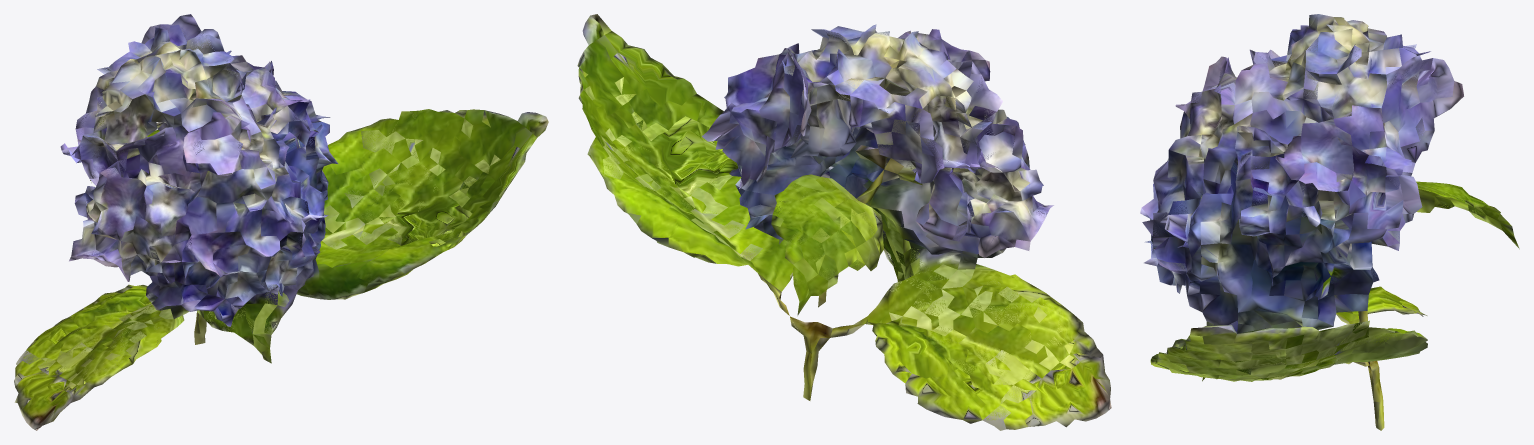
3 renders of one model, left to right at view 1: azimuth 30°, elevation 25°; view 2: azimuth 150°, elevation 25°; view 3: azimuth 270°, elevation 25°, orthographic. The views are drawn at different scales.
Visible parts, largest first — view 1: 69fd19ab; view 2: 69fd19ab; view 3: 69fd19ab.
Part boxes in pixels (box(x1,y1,x2,y2)): 69fd19ab: box(14, 14, 548, 430); 69fd19ab: box(577, 14, 1111, 430); 69fd19ab: box(1140, 14, 1519, 430).
Size of the model in its own units: 0.2076 by 0.1319 by 0.12.
Materials: 1 (1 with a texture image).
